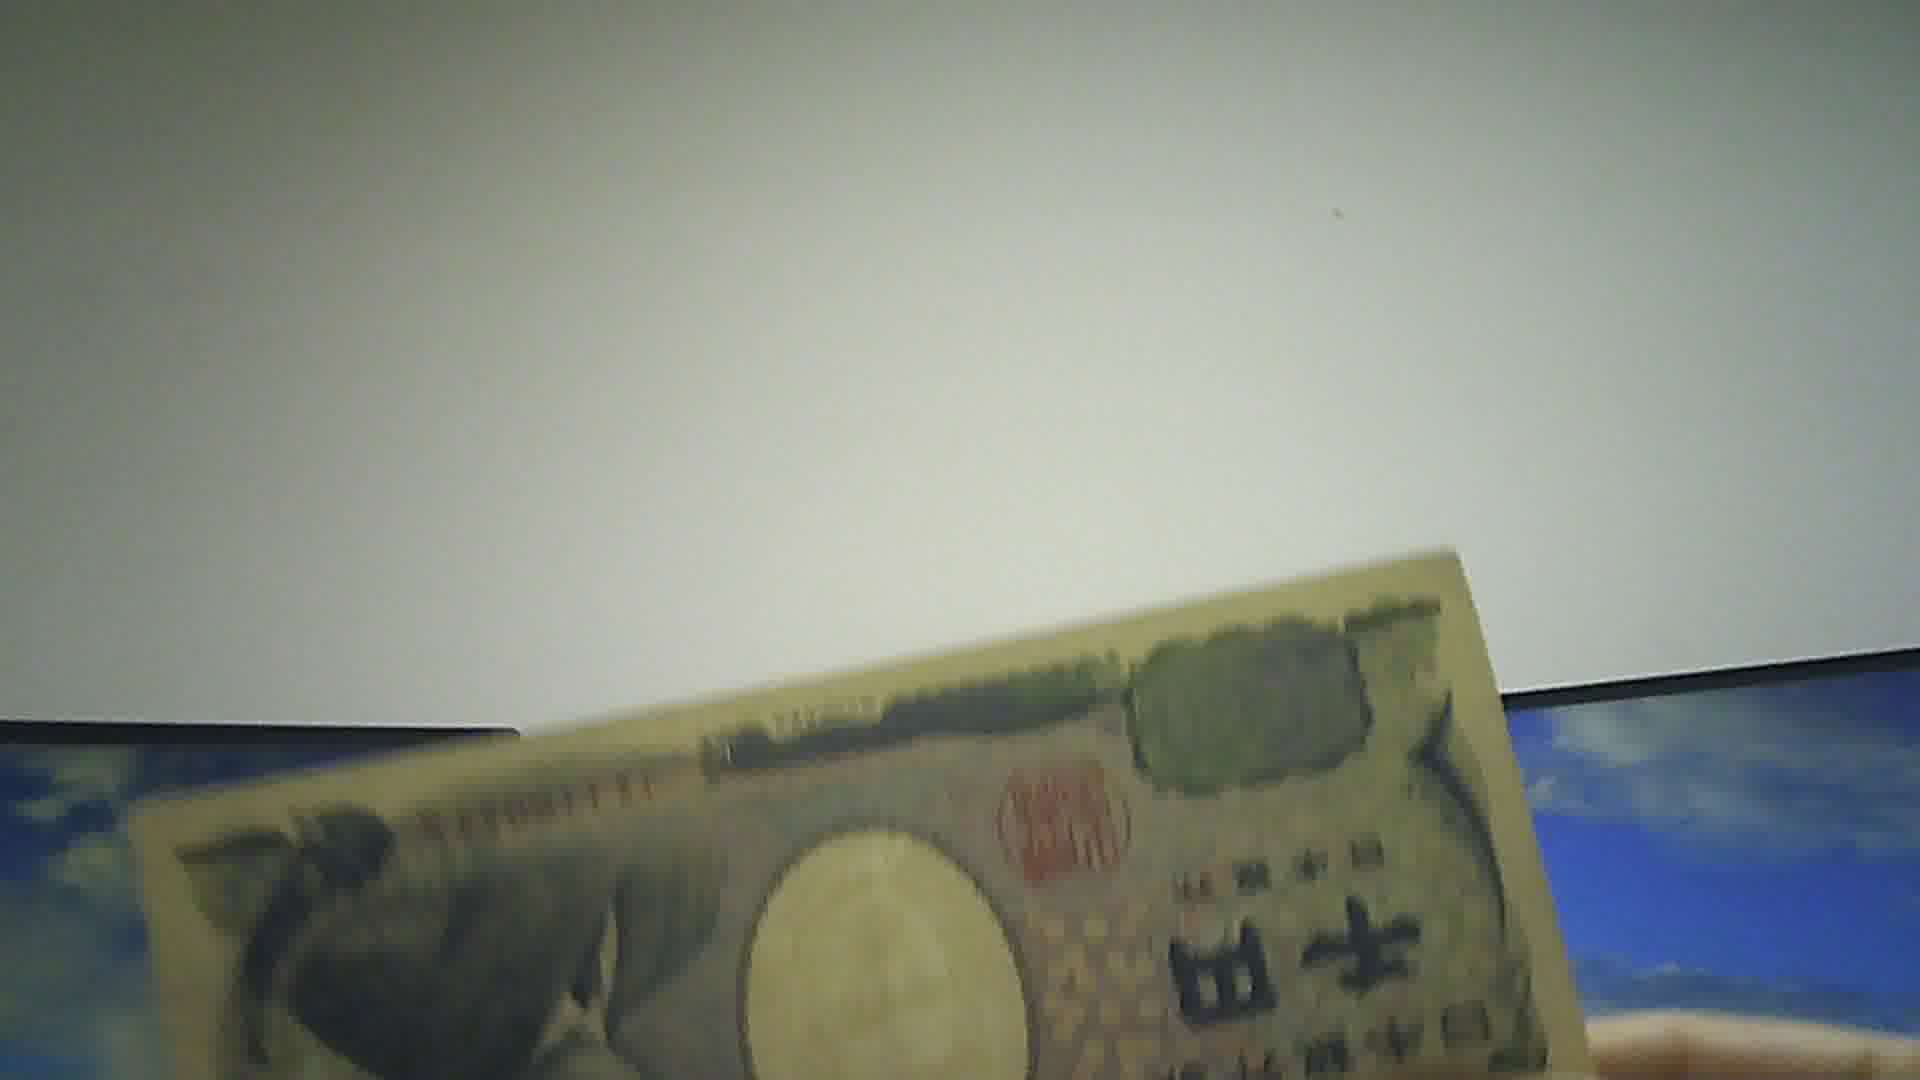1,000 Yen: (96, 531, 1590, 1077)
